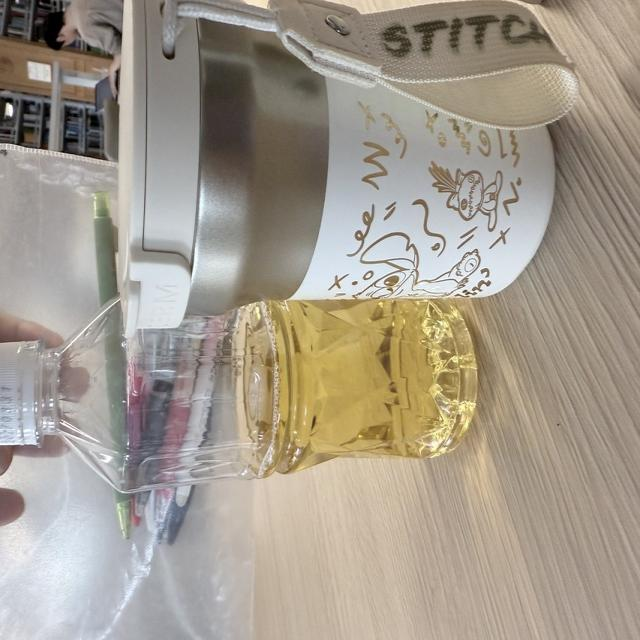medium: (0, 298, 476, 503)
